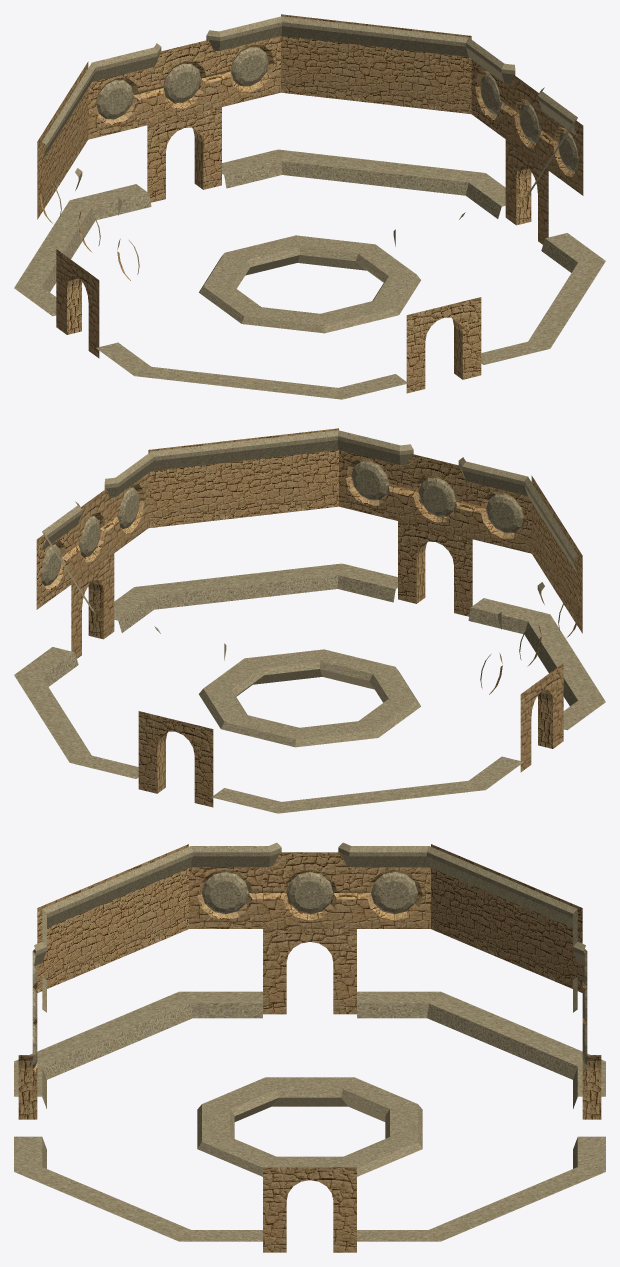
Rendered from LibraryMainNoColliders.glb.
3 renders of one model, top to bottom at view 1: azimuth 30°, elevation 25°; view 2: azimuth 150°, elevation 25°; view 3: azimuth 270°, elevation 25°, orthographic. The views are drawn at different scales.
Visible parts, largest first — view 1: object1.031, object1.045, object1.029, object1.039, object1, object1.023, object1.025, object1.036, object1.004, object1.001, object1.030, object1.009 (+12 smaller); view 2: object1.040, object1.023, object1.043, object1.004, object1.050, object1.045, object1.036, object1.025, object1.039, object1.016, object1.049, object1.015 (+12 smaller); view 3: object1.009, object1.015, object1.004, object1.039, object1.020, object1.037, object1.010, object1.006, object1.017, object1.023, object1.045, object1.007 (+9 smaller).
Part boxes in pixels (x1,y1,x2,y2): object1.031: [281, 14, 471, 114]; object1.045: [222, 149, 505, 218]; object1.029: [224, 16, 501, 80]; object1.039: [14, 184, 151, 316]; object1: [145, 40, 221, 125]; object1.023: [481, 233, 605, 364]; object1.025: [406, 297, 481, 393]; object1.036: [147, 107, 221, 202]; object1.004: [96, 342, 408, 399]; object1.001: [88, 69, 147, 139]; object1.030: [220, 36, 280, 106]; object1.009: [37, 61, 88, 219]; object1.040: [148, 428, 338, 528]; object1.023: [114, 563, 397, 632]; object1.043: [118, 430, 395, 494]; object1.004: [468, 598, 605, 730]; object1.050: [398, 454, 474, 539]; object1.045: [14, 647, 138, 778]; object1.036: [138, 711, 213, 807]; object1.025: [398, 521, 472, 616]; object1.039: [211, 756, 523, 813]; object1.016: [472, 483, 531, 553]; object1.049: [339, 450, 399, 520]; object1.015: [531, 475, 582, 633]; object1.009: [431, 844, 582, 992]; object1.015: [37, 844, 188, 992]; object1.004: [14, 991, 262, 1108]; object1.039: [357, 991, 605, 1108]; object1.020: [263, 852, 356, 928]; object1.037: [263, 1167, 356, 1252]; object1.010: [263, 929, 356, 1014]; object1.006: [357, 846, 577, 942]; object1.017: [42, 846, 262, 942]; object1.023: [14, 1136, 262, 1241]; object1.045: [357, 1136, 605, 1241]; object1.007: [357, 867, 430, 928].
Size of the model in its own units: 6.3 by 2.2 by 6.3.
Materials: 28 (28 with a texture image).
